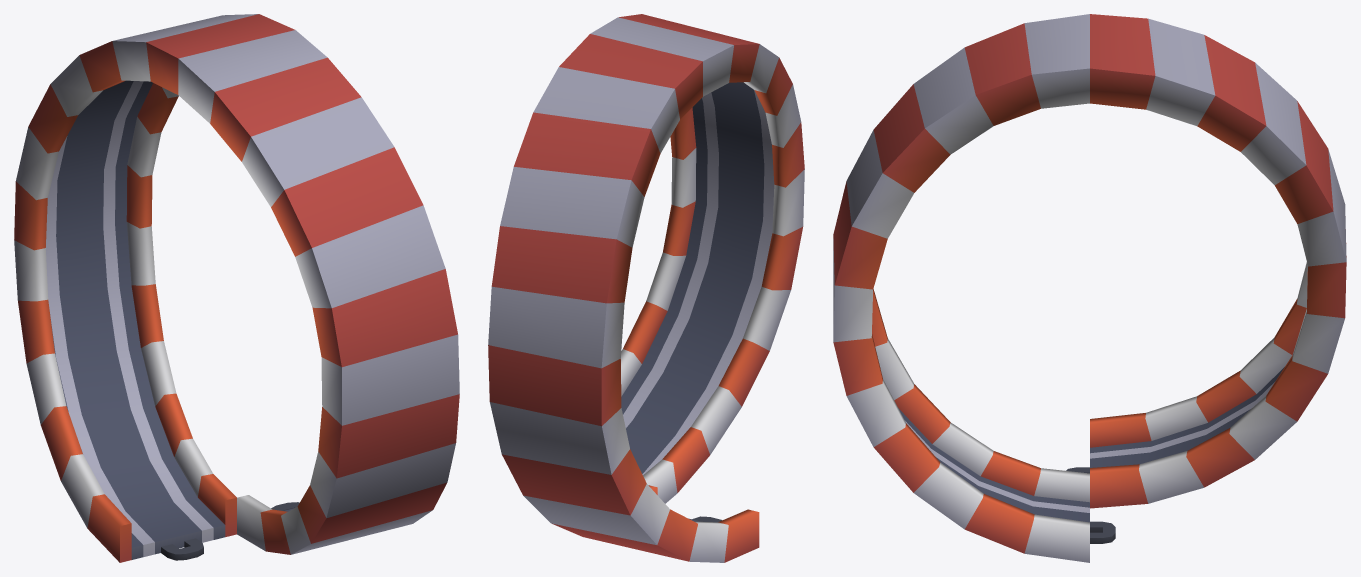
File: track-road-narrow-looping.glb
3 renders of one model, left to right at view 1: azimuth 30°, elevation 25°; view 2: azimuth 150°, elevation 25°; view 3: azimuth 270°, elevation 25°, orthographic. The views are drawn at different scales.
Visible parts, largest first — view 1: track-road-narrow-looping; view 2: track-road-narrow-looping; view 3: track-road-narrow-looping.
Part boxes in pixels (x1,y1,x2,y2): track-road-narrow-looping: (14,14,459,562); track-road-narrow-looping: (488,14,804,562); track-road-narrow-looping: (833,14,1346,562).
Size of the model in its own units: 2 by 4 by 3.98.
